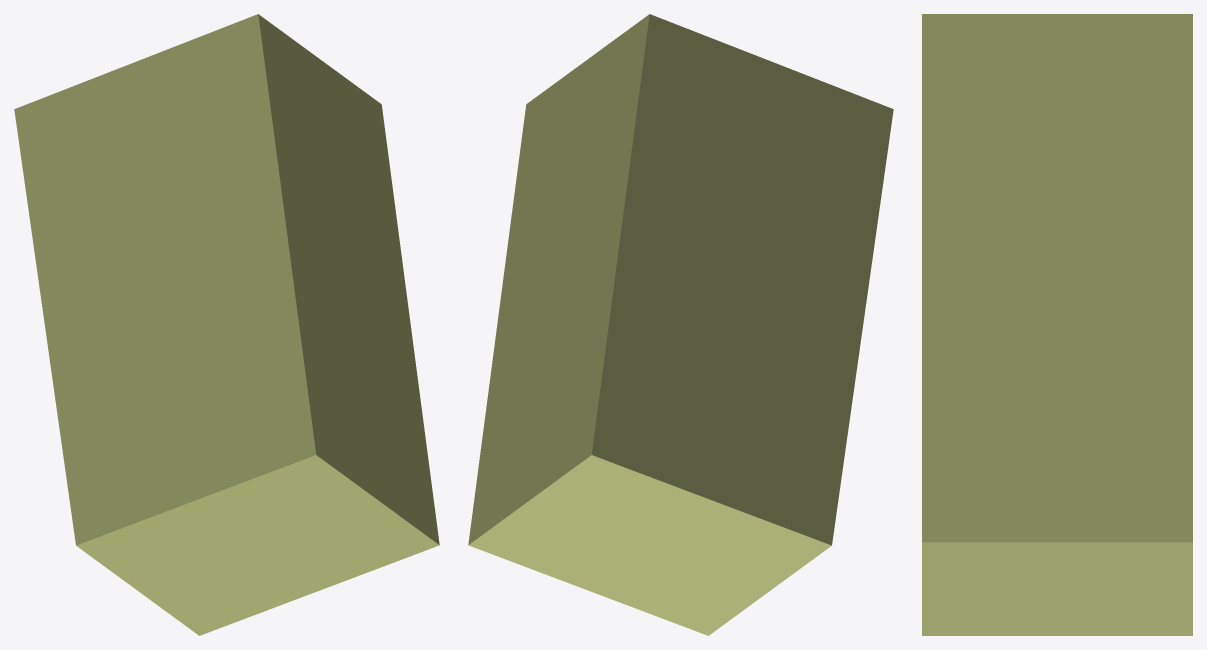
3 renders of one model, left to right at view 1: azimuth 30°, elevation 25°; view 2: azimuth 150°, elevation 25°; view 3: azimuth 270°, elevation 25°, orthographic. The views are drawn at different scales.
Visible parts, largest first — view 1: 0_1_2_0_0_2_1_0_1_1; view 2: 0_1_2_0_0_2_1_0_1_1; view 3: 0_1_2_0_0_2_1_0_1_1.
Part boxes in pixels (x1=…): 0_1_2_0_0_2_1_0_1_1: x1=14, y1=14, x2=439, y2=635; 0_1_2_0_0_2_1_0_1_1: x1=468, y1=14, x2=893, y2=635; 0_1_2_0_0_2_1_0_1_1: x1=922, y1=14, x2=1192, y2=635.
Bounding box in the file's own units: 8.47 × 13.06 × 6.
